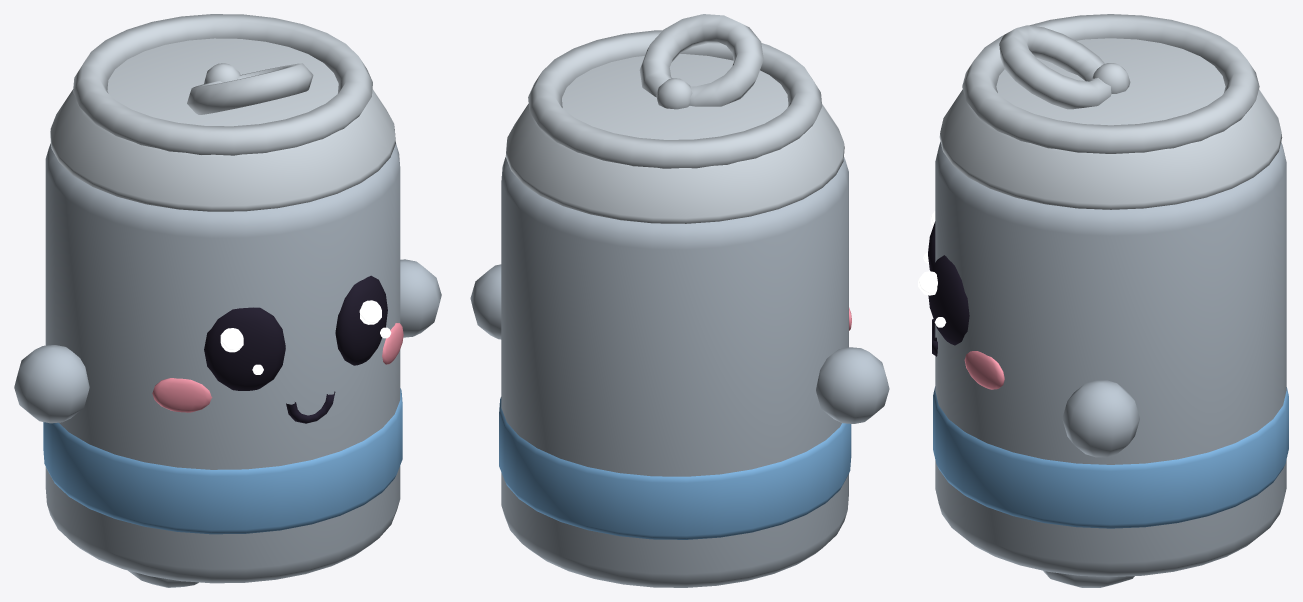
3 views of the same model, side by side, from view 1: azimuth 30°, elevation 25°; view 2: azimuth 150°, elevation 25°; view 3: azimuth 270°, elevation 25° (orthographic). The views are drawn at different scales.
Parts seen in each view (by area): view 1: al; view 2: al; view 3: al.
Part boxes in pixels (x1=…): al: x1=14, y1=14, x2=441, y2=587; al: x1=470, y1=14, x2=889, y2=587; al: x1=918, y1=14, x2=1288, y2=587.
Size of the model in its own units: 0.9176 by 1.1 by 0.7178.
